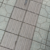zebra: (1, 3, 50, 50)
